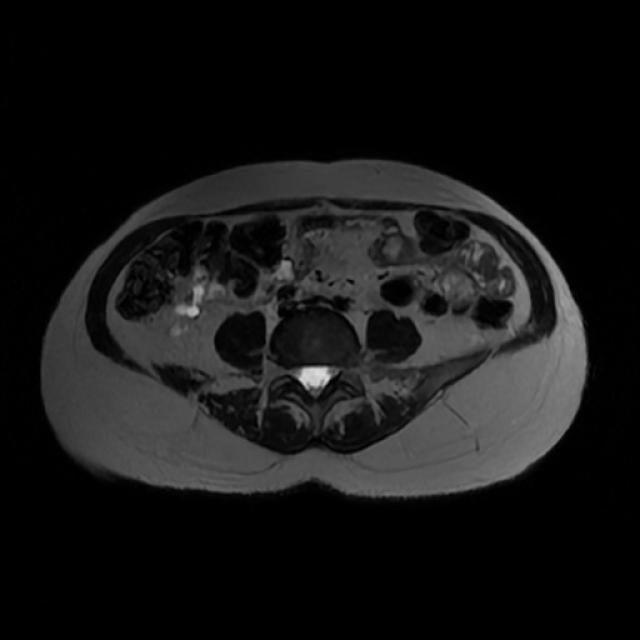sag: (169, 267, 232, 337)
